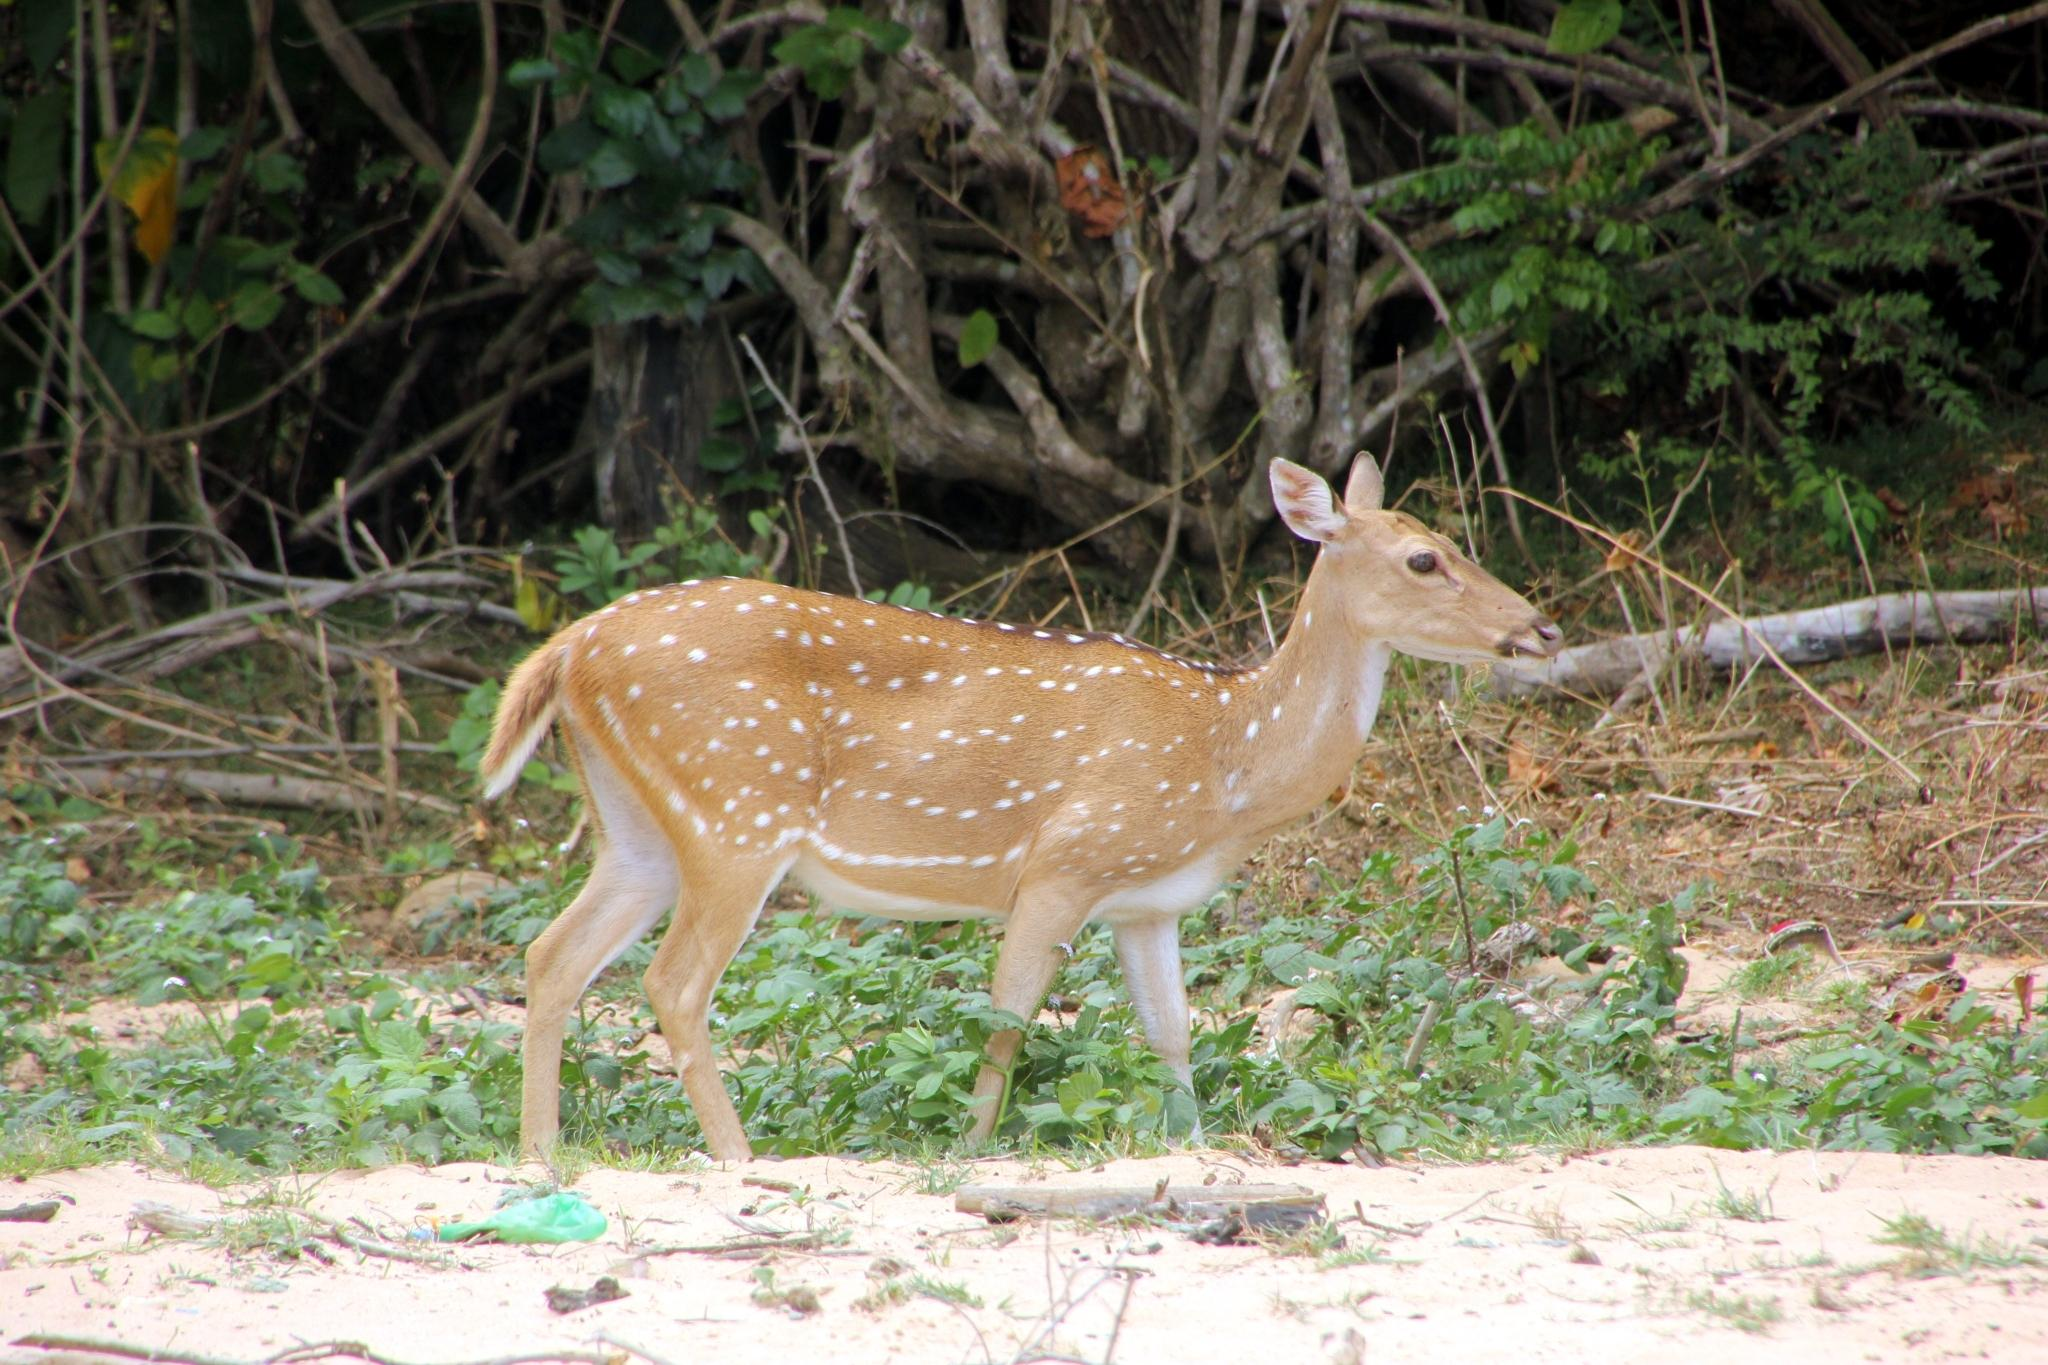Deer: (483, 454, 1561, 1159)
